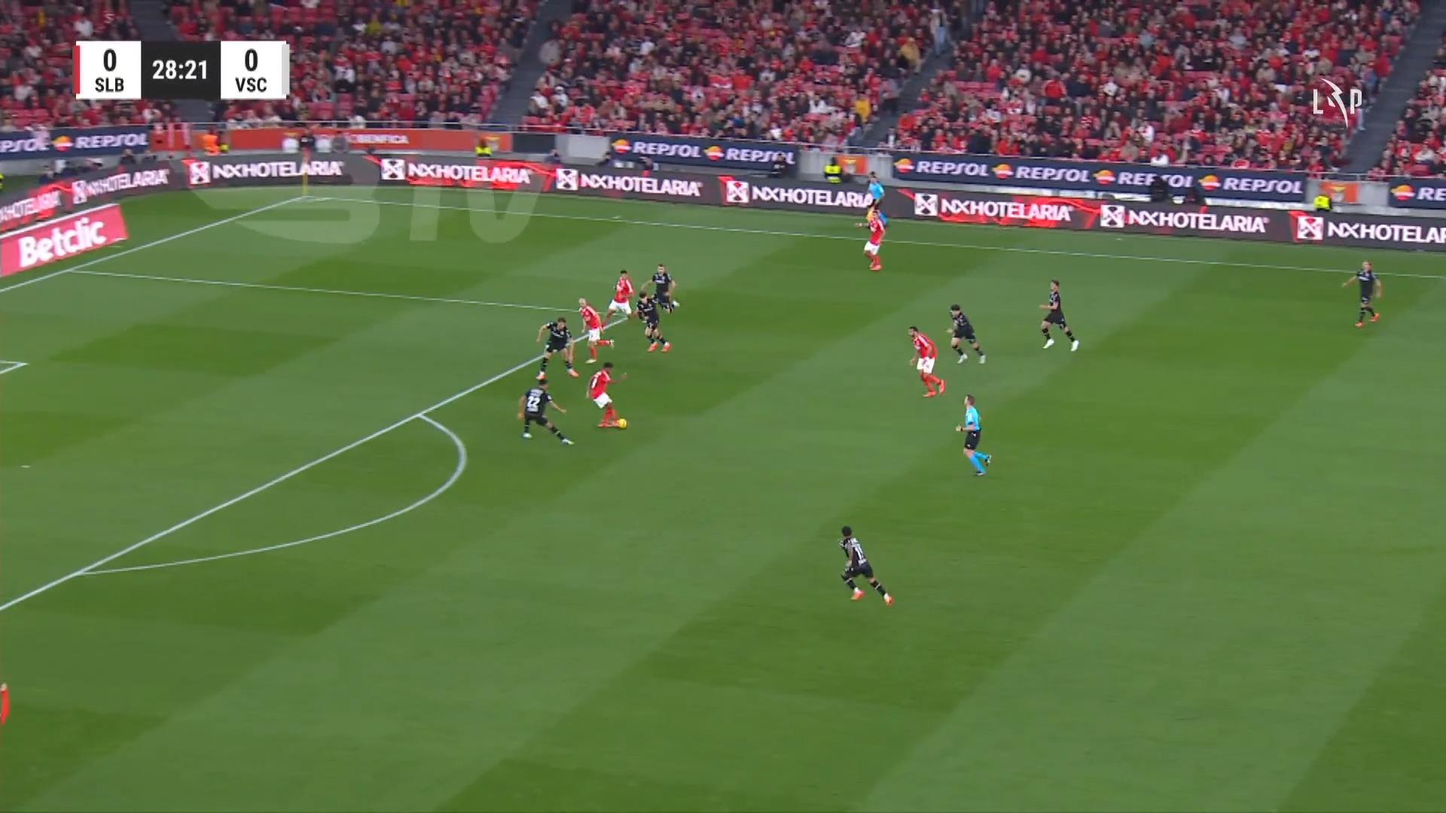ball: (616, 418, 627, 428)
player: (837, 525, 894, 606), (517, 376, 574, 446), (1039, 279, 1079, 352), (585, 361, 628, 428), (1341, 259, 1383, 327), (906, 324, 945, 397), (535, 315, 579, 379), (576, 297, 615, 363), (945, 303, 986, 364), (635, 291, 671, 352), (859, 205, 889, 270), (640, 263, 679, 313), (602, 269, 636, 325)
referee: (954, 393, 991, 477), (856, 170, 886, 228)
